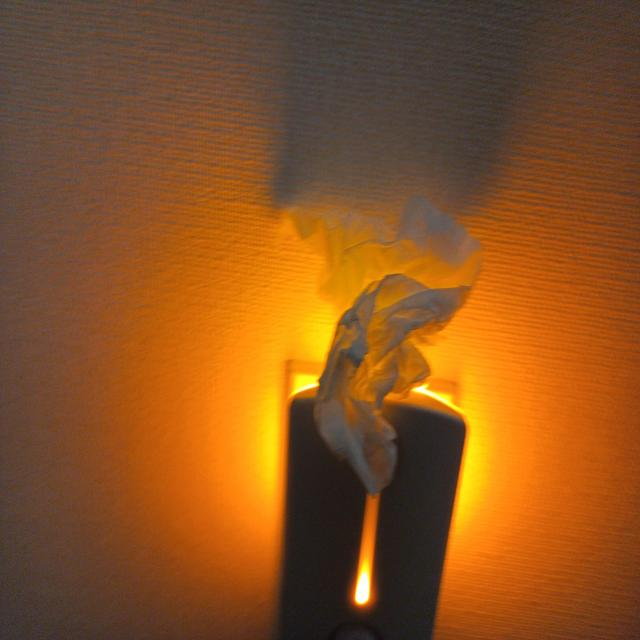衛生紙: (290, 200, 438, 496)
